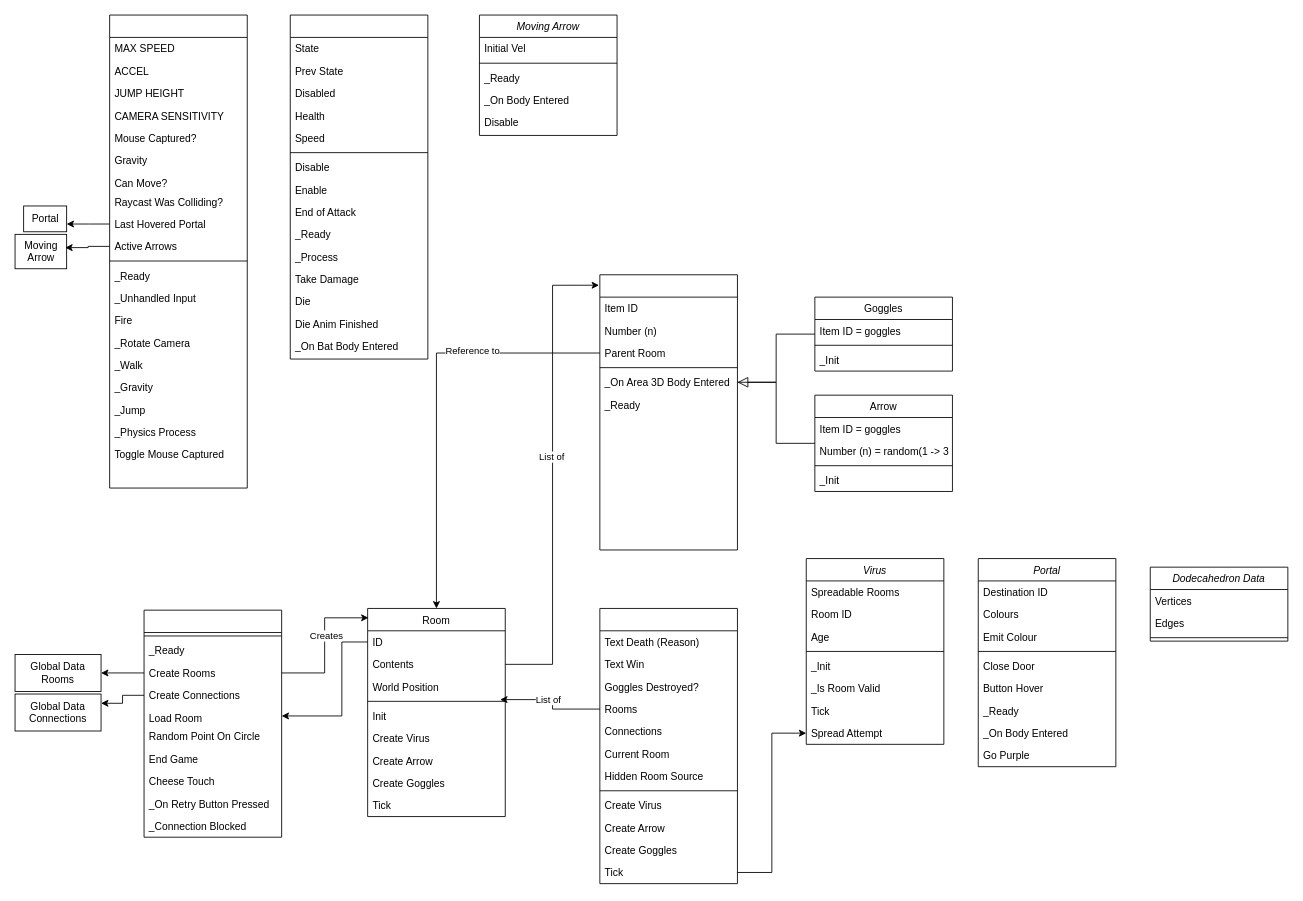
Image size: 1303x901. Some labels were removed from this diagram. The box of each missing label's shape, as (x1, y1, x2, y2) in pixels:
DataWump: (289, 14, 428, 359)
Global Data: (599, 608, 737, 884)
Pickup: (599, 274, 737, 550)
Player: (109, 14, 247, 488)
World Manager: (143, 609, 282, 837)
